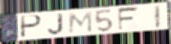5: (94, 8, 115, 33)
F: (117, 6, 141, 32)
I: (153, 4, 162, 29)
J: (47, 13, 65, 36)
M: (68, 10, 94, 35)
P: (19, 14, 43, 39)
